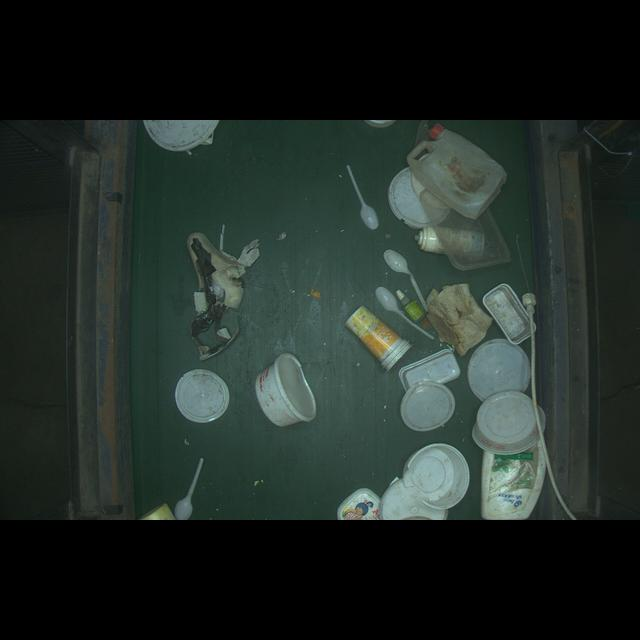PP: (250, 352, 323, 432), (343, 302, 418, 373)
